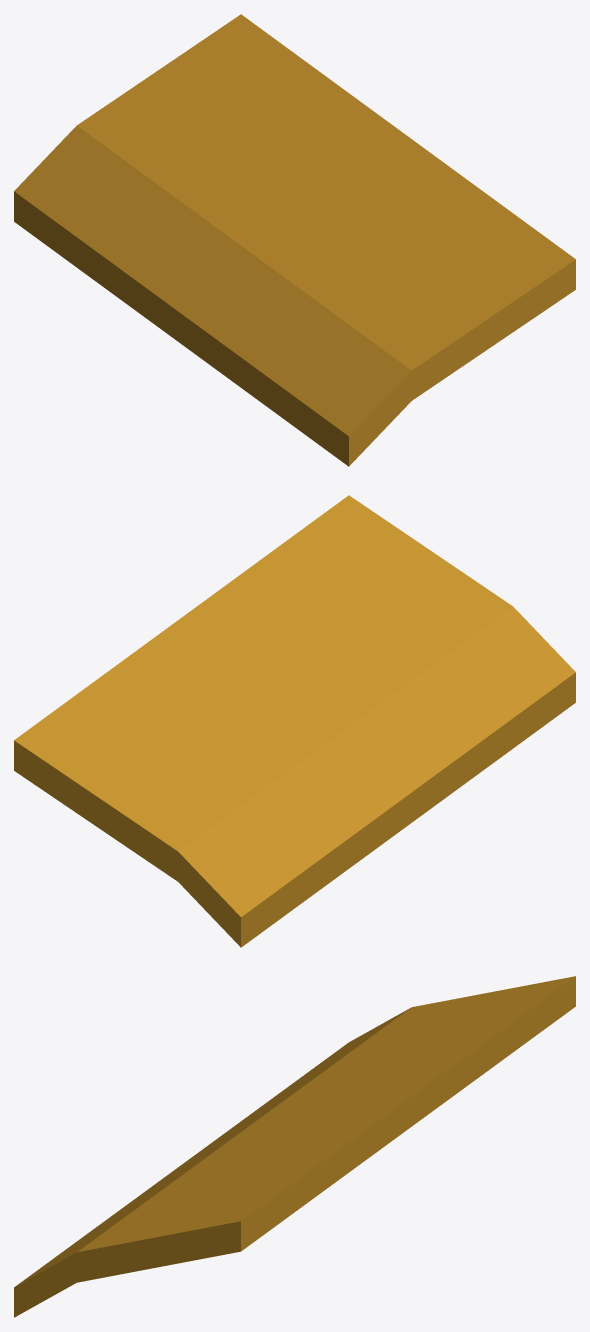
Rendered from missile_door.obj.
3 renders of one model, top to bottom at view 1: azimuth 30°, elevation 25°; view 2: azimuth 150°, elevation 25°; view 3: azimuth 330°, elevation 25°, orthographic.
Visible parts, largest first — view 1: UESN_YorktownClass_Carrier__CVM5__g_90913-0044_DarkGoldenrod; view 2: UESN_YorktownClass_Carrier__CVM5__g_90913-0044_DarkGoldenrod; view 3: UESN_YorktownClass_Carrier__CVM5__g_90913-0044_DarkGoldenrod.
Boxes of the visible parts, bbox=[...] form: UESN_YorktownClass_Carrier__CVM5__g_90913-0044_DarkGoldenrod: bbox=[14, 14, 575, 466]; UESN_YorktownClass_Carrier__CVM5__g_90913-0044_DarkGoldenrod: bbox=[14, 495, 575, 947]; UESN_YorktownClass_Carrier__CVM5__g_90913-0044_DarkGoldenrod: bbox=[14, 976, 575, 1317].
Size of the model in its own units: 5.8 by 3.71 by 14.83.
